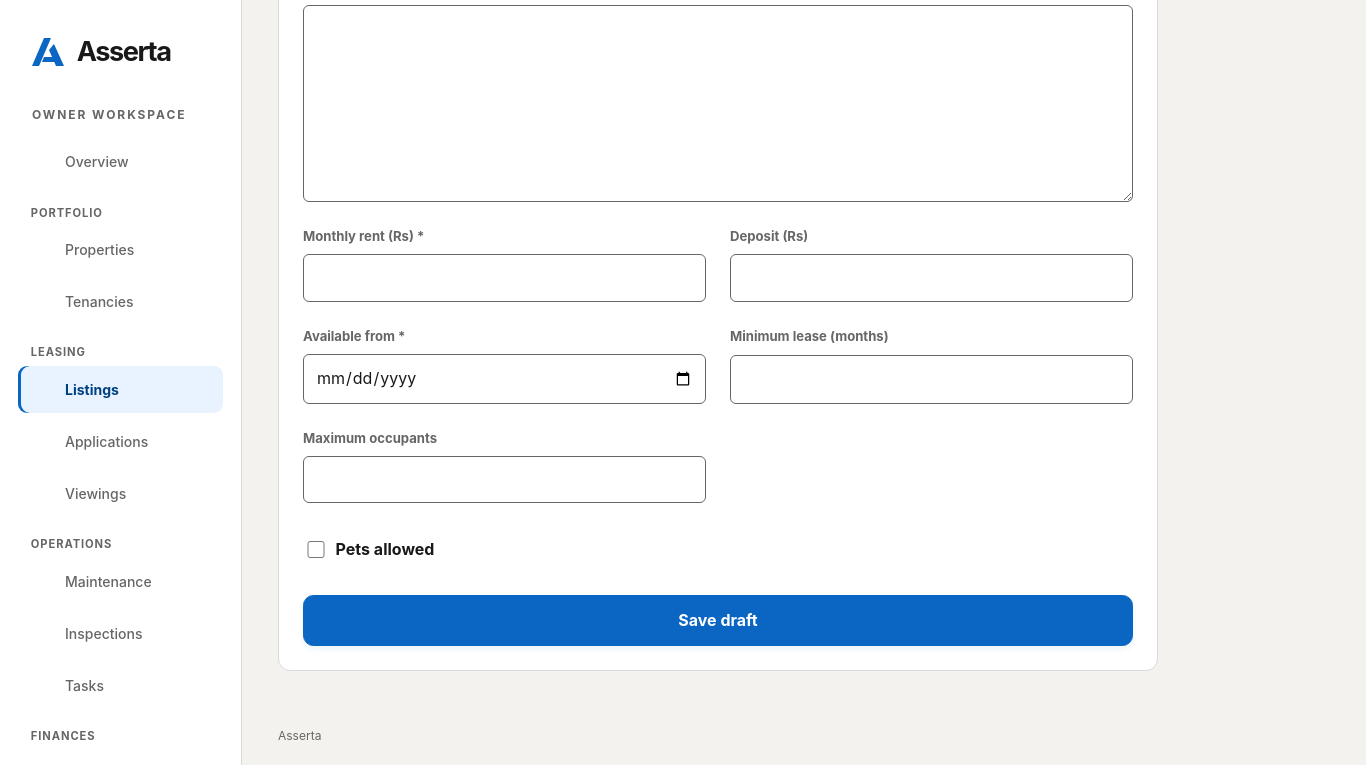
listing creation › shows field validation without creating invalid data
(page scrolled)
Click the button "Save draft".
click(718, 621)  # box [303,595,1133,646]
(page scrolled)
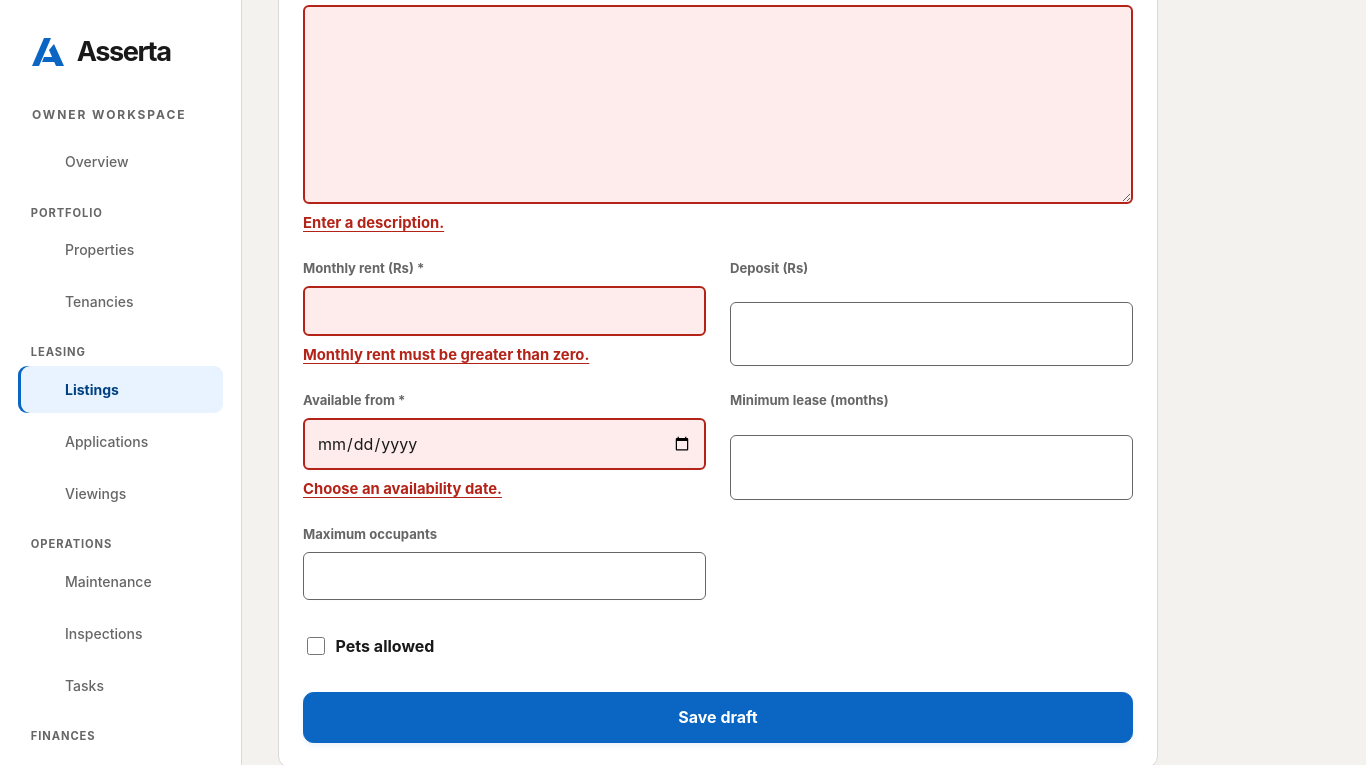
Check: the text "Monthly rent must be greater than zero." is shown, box [303,346,589,364]
